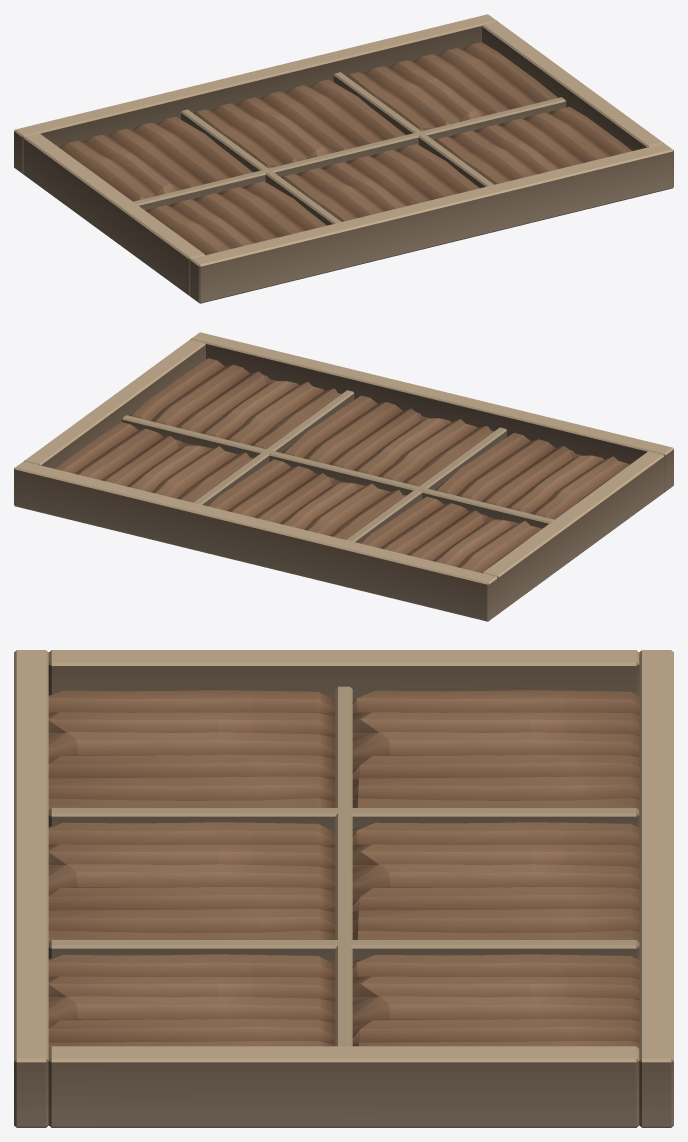
File: farm_bed.glb
3 renders of one model, top to bottom at view 1: azimuth 30°, elevation 25°; view 2: azimuth 150°, elevation 25°; view 3: azimuth 270°, elevation 25°, orthographic. The views are drawn at different scales.
Parts seen in each view (by area): view 1: bed_frame, soil_1, soil_0, soil_2, soil_4, soil_3, soil_5; view 2: bed_frame, soil_4, soil_3, soil_5, soil_1, soil_0, soil_2; view 3: bed_frame, soil_5, soil_2, soil_1, soil_4, soil_0, soil_3.
Part boxes in pixels (left/top/right/bottom): bed_frame: left=14, top=14, right=673, bottom=303; soil_1: left=193, top=79, right=405, bottom=168; soil_0: left=346, top=42, right=558, bottom=131; soil_2: left=59, top=116, right=252, bottom=201; soil_4: left=281, top=144, right=479, bottom=221; soil_3: left=433, top=106, right=631, bottom=184; soil_5: left=145, top=181, right=326, bottom=254; bed_frame: left=14, top=332, right=673, bottom=621; soil_4: left=282, top=395, right=494, bottom=486; soil_3: left=130, top=358, right=341, bottom=449; soil_5: left=435, top=433, right=629, bottom=519; soil_1: left=207, top=459, right=406, bottom=539; soil_0: left=55, top=422, right=253, bottom=502; soil_2: left=360, top=496, right=542, bottom=572; bed_frame: left=14, top=650, right=673, bottom=1127; soil_5: left=48, top=690, right=335, bottom=809; soil_2: left=352, top=690, right=639, bottom=809; soil_1: left=352, top=822, right=639, bottom=941; soil_4: left=48, top=822, right=335, bottom=941; soil_0: left=352, top=954, right=639, bottom=1048; soil_3: left=48, top=954, right=335, bottom=1048.
Size of the model in its own units: 2.8 by 0.22 by 1.9.
Materials: 2 (2 with a texture image).
